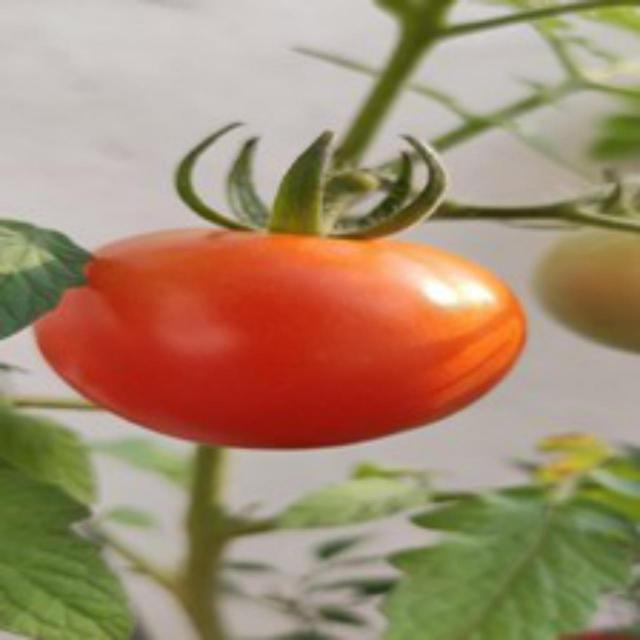tomato: (31, 218, 549, 462)
